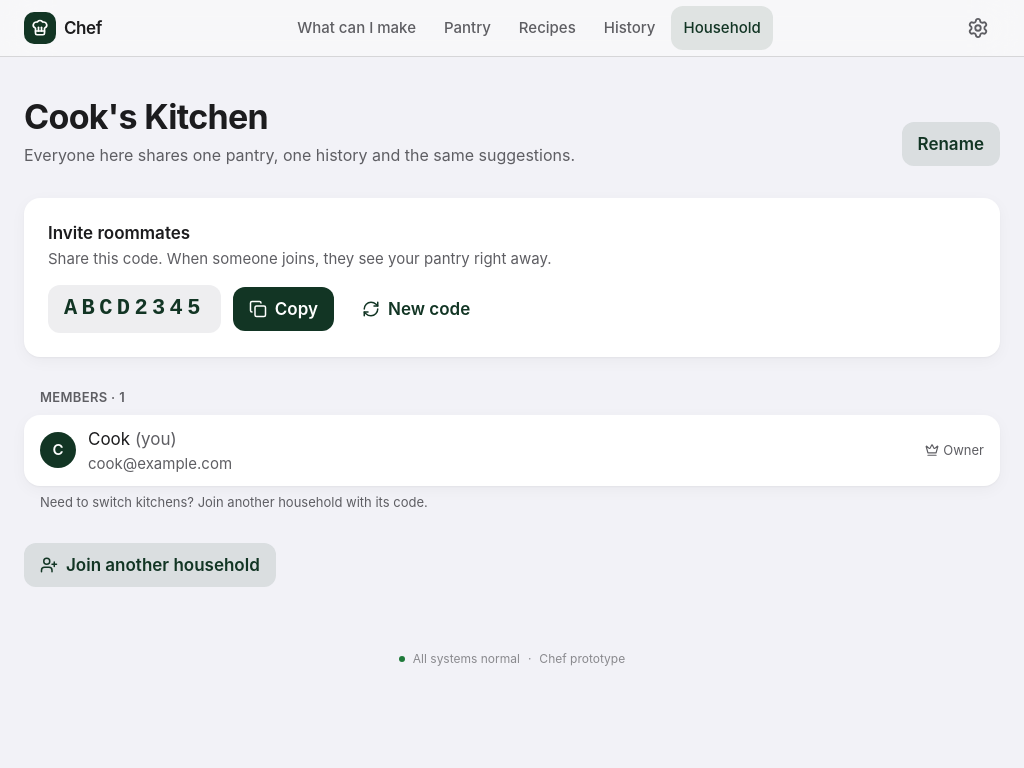
Test case: HouseholdPage › shows the code in the toast when the clipboard is blocked
What coordinates should you click on to do the following:
click the button "Copy"
I would click on:
 (283, 309)
Its box is 233,287 -> 334,331.
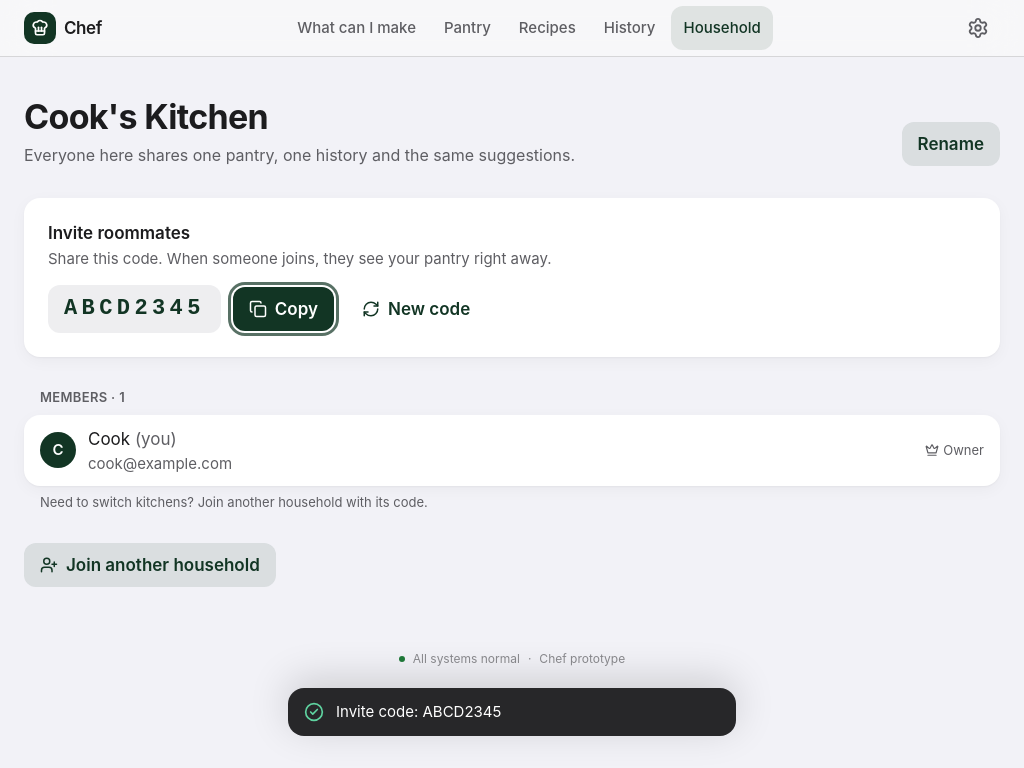
Now the text "Invite code: ABCD2345" is shown, box 336,702 -> 502,721
